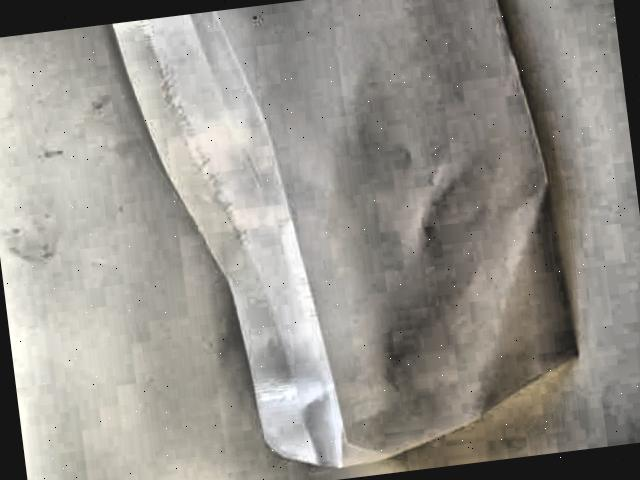Paper: (97, 0, 601, 480)
